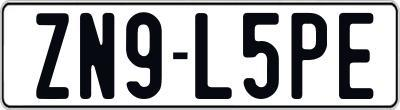5: (242, 10, 282, 98)
9: (123, 11, 163, 104)
E: (336, 13, 376, 101)
L: (194, 10, 233, 98)
N: (78, 12, 116, 98)
P: (290, 10, 326, 98)
Z: (34, 11, 68, 101)
